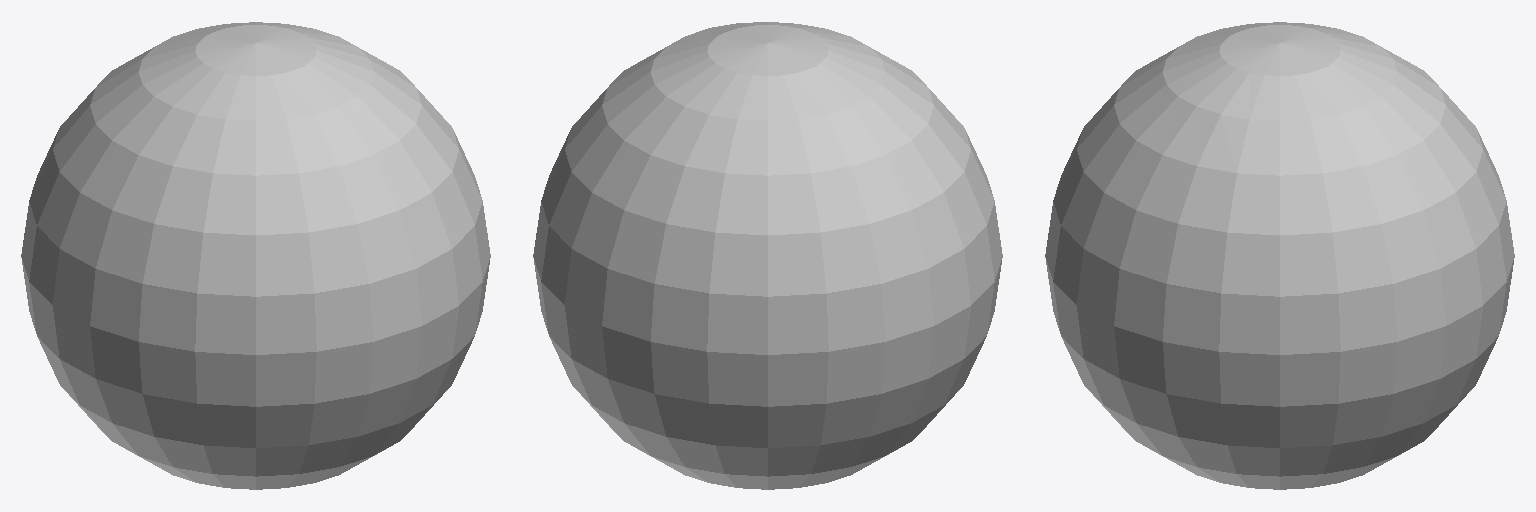
File: sculptris.obj
The picture shows the model from 3 angles: view 1: azimuth 30°, elevation 25°; view 2: azimuth 150°, elevation 25°; view 3: azimuth 270°, elevation 25°; orthographic projection.
Visible parts, largest first — view 1: Mesh_default.001; view 2: Mesh_default.001; view 3: Mesh_default.001.
Boxes of the visible parts, x1,y1,x2,y2 form: Mesh_default.001: [21, 22, 490, 489]; Mesh_default.001: [533, 22, 1002, 489]; Mesh_default.001: [1045, 22, 1514, 489].
Bounding box in the file's own units: 1 × 1 × 1.